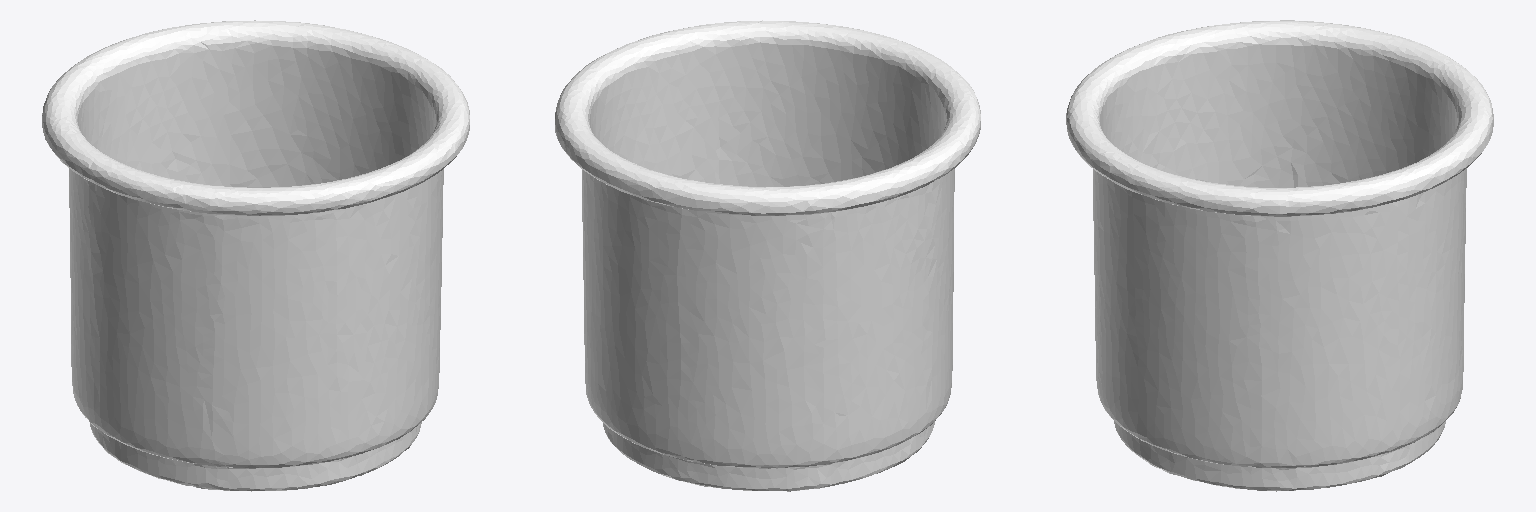
The robot description file, URDF, robot "065-j_cups":
<robot name="065-j_cups">
	<link name="_name">
		<visual>
			<origin xyz="0.2316916577060105 0.16288097645136357 -0.36470255939330765" rpy="0 0 0" />
			<geometry>
				<mesh filename="065-j_cups/google_16k/textured.obj" scale="10 10 10" />
			</geometry>
			<material name="texture">
				<color rgba="1.0 1.0 1.0 1.0" />
			</material>
		</visual>
		<collision>
			<geometry>
				<mesh filename="065-j_cups/google_16k/textured_vhacd.obj" scale="10 10 10" />
			</geometry>
		<origin xyz="0.2316916577060105 0.16288097645136357 -0.36470255939330765" rpy="0 0 0" /></collision>
		<inertial>
			<mass value="1.0" />
			<inertia ixx="1.0" ixy="0.0" ixz="0.0" iyy="1.0" iyz="0.0" izz="1.0" />
		</inertial>
	</link>
</robot>

--- Render facts (derived) ---
3 views of the same robot in one strip: view 1: azimuth 30°, elevation 25°; view 2: azimuth 150°, elevation 25°; view 3: azimuth 270°, elevation 25° (orthographic).
Model 065-j_cups with 1 links and 0 joints (none), rooted at _name, posed every joint at zero.
Links seen in each view (by area): view 1: _name; view 2: _name; view 3: _name.
Boxes of the visible links, bbox=[...] form: _name: bbox=[42, 20, 469, 491]; _name: bbox=[555, 20, 980, 491]; _name: bbox=[1066, 20, 1493, 491].
Bounding box of the posed robot: 0.915 × 0.9162 × 0.7506 m (x, y, z).
1 mesh visuals loaded from 1 distinct referenced files (1 OBJ).